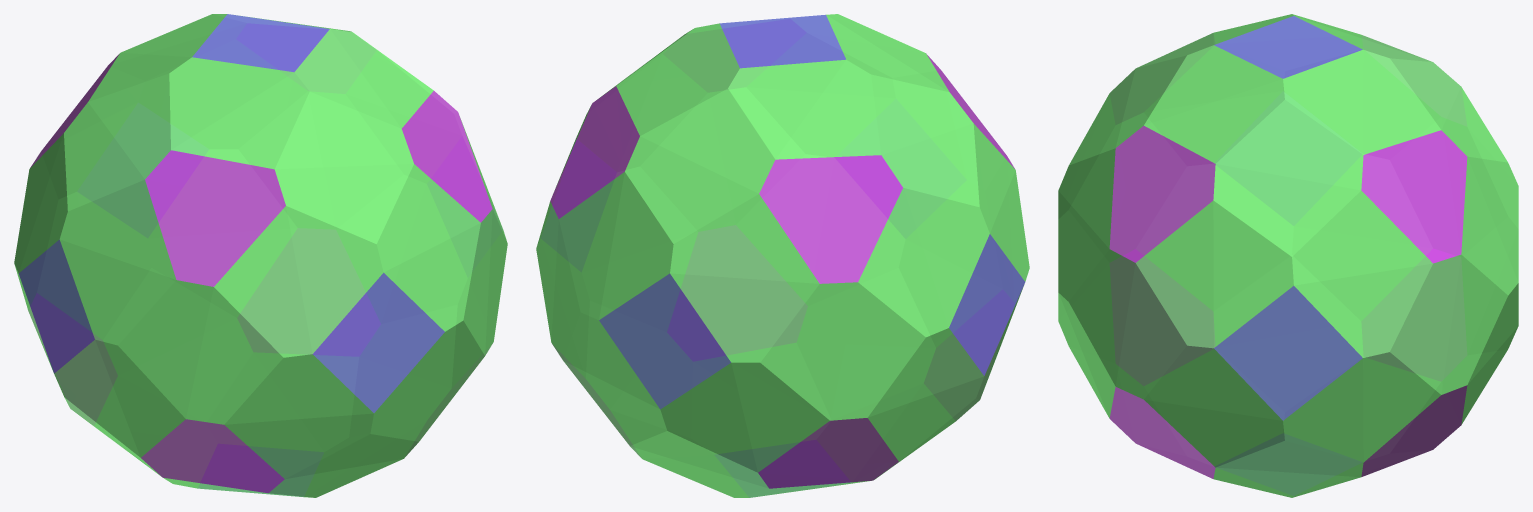
Rendered from BiscribedPropelloTruncatedOctahedron.obj.
3 renders of one model, left to right at view 1: azimuth 30°, elevation 25°; view 2: azimuth 150°, elevation 25°; view 3: azimuth 270°, elevation 25°, orthographic. The views are drawn at different scales.
Bounding box in the file's own units: 2 × 2 × 2.
